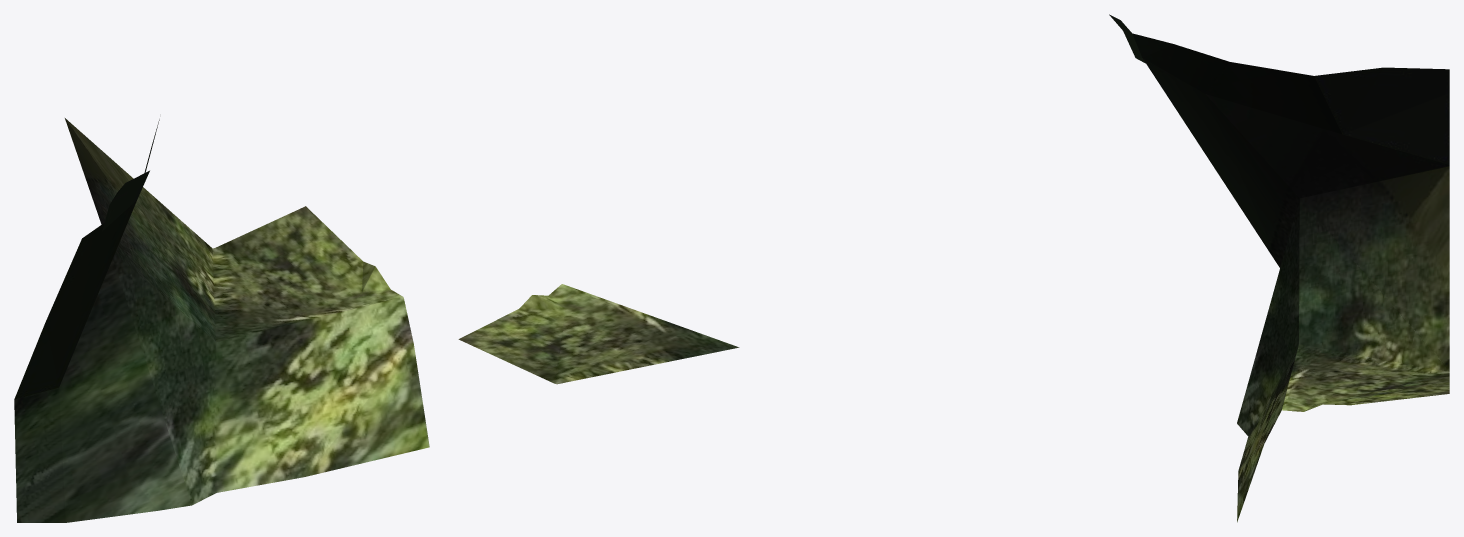
3 views of the same model, side by side, from view 1: azimuth 30°, elevation 25°; view 2: azimuth 150°, elevation 25°; view 3: azimuth 270°, elevation 25° (orthographic). The views are drawn at different scales.
Bounding box in the file's own units: 2.95 × 2.95 × 2.63.
3 materials, 3 textured.
